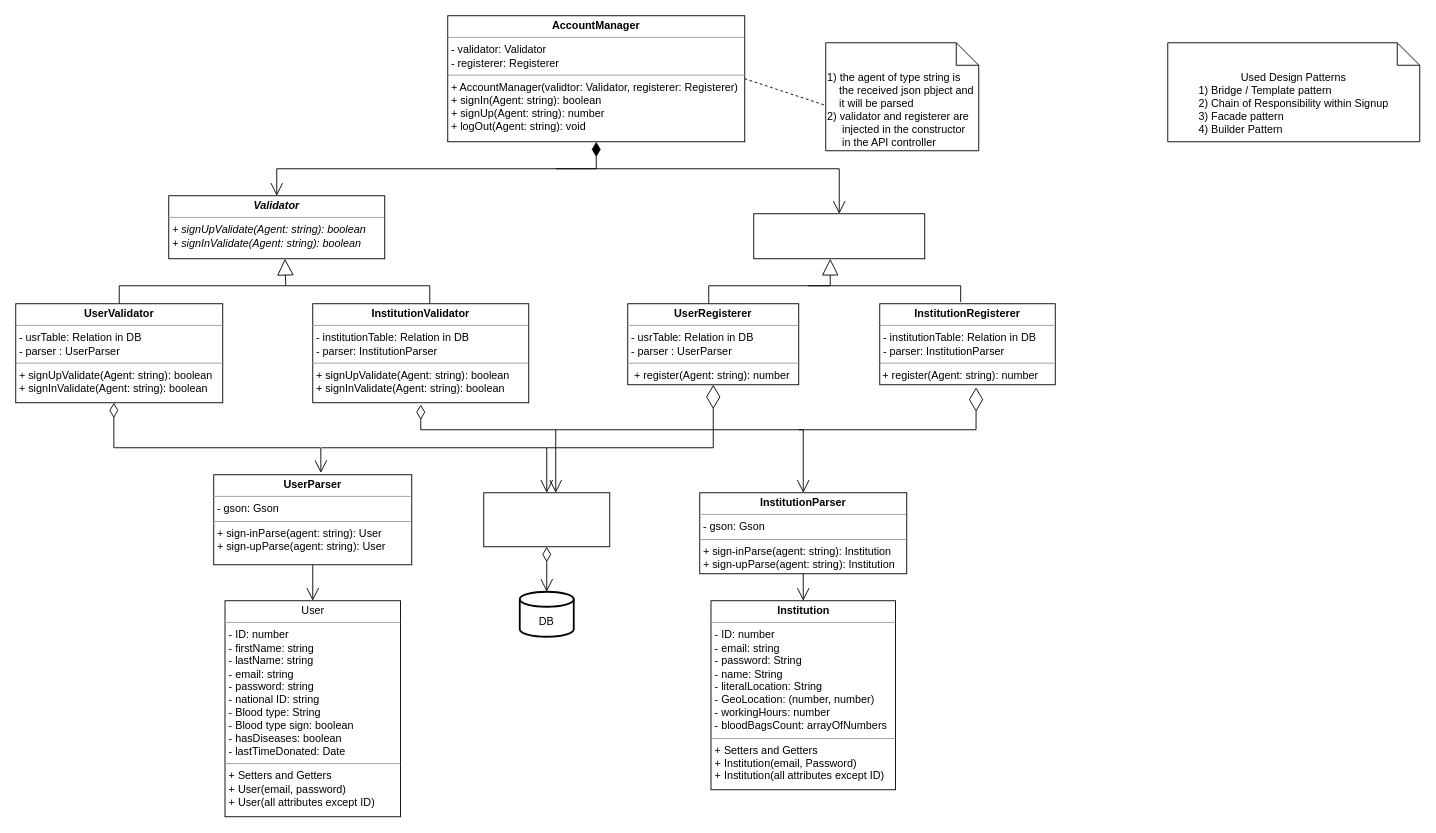
This 1436x833 diagram has some shape labels left out. The shapes that lost their labels are listed below. From the top down, each one's box as (x1, y1, x2, y2) in pixels, then its label:
(753, 213, 925, 259): Registerer + register(Agent: string): number
(483, 492, 610, 547): JDBC
